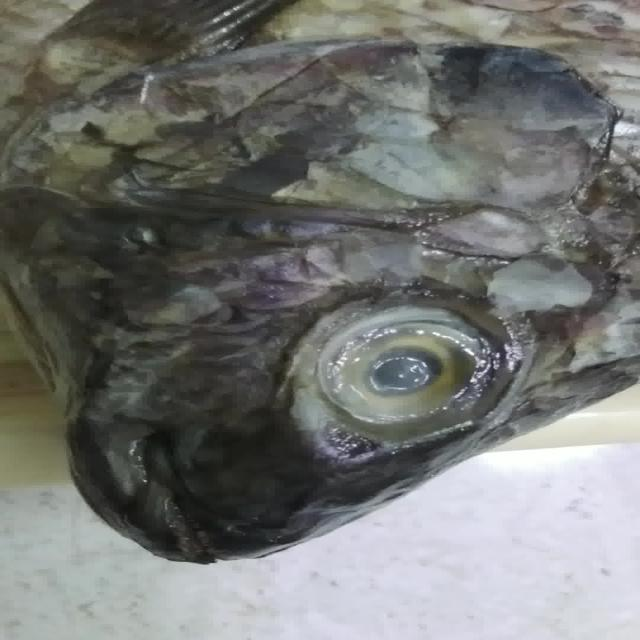Non-Fresh: (292, 294, 496, 436)
